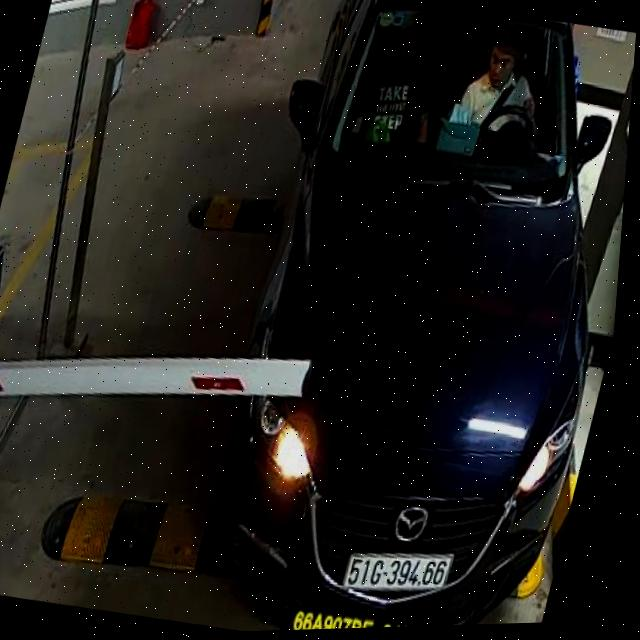car: (158, 0, 640, 634)
plate: (337, 537, 456, 610)
